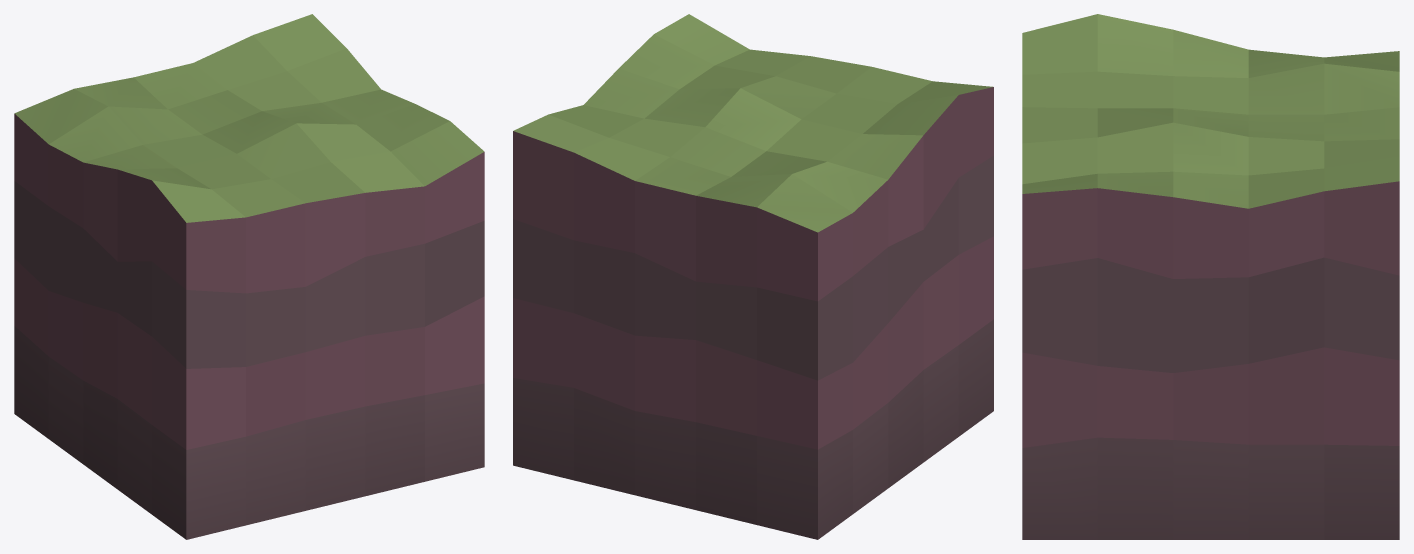
The model's file is roca_relleno_3.glb.
3 renders of one model, left to right at view 1: azimuth 30°, elevation 25°; view 2: azimuth 150°, elevation 25°; view 3: azimuth 270°, elevation 25°, orthographic. The views are drawn at different scales.
Visible parts, largest first — view 1: propforge-cuartos-roca_relleno; view 2: propforge-cuartos-roca_relleno; view 3: propforge-cuartos-roca_relleno.
Boxes of the visible parts, box(x1,y1,x2,y2) form: propforge-cuartos-roca_relleno: box(14, 14, 484, 539); propforge-cuartos-roca_relleno: box(513, 14, 993, 539); propforge-cuartos-roca_relleno: box(1022, 14, 1399, 539).
Bounding box in the file's own units: 1 × 1.07 × 1.
